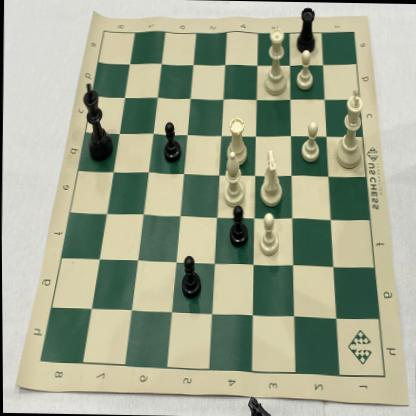black-king: (78, 80, 116, 165)
black-pawn: (177, 252, 203, 302), (225, 202, 250, 249), (160, 118, 183, 168)
black-rook: (293, 2, 320, 58)
white-bishop: (220, 147, 247, 212)
white-king: (331, 82, 367, 174)
white-knight: (256, 146, 285, 208)
white-pawn: (256, 209, 282, 260), (298, 118, 322, 166), (292, 48, 317, 92)
white-queen: (259, 22, 290, 98)
white-rook: (223, 111, 251, 169)
